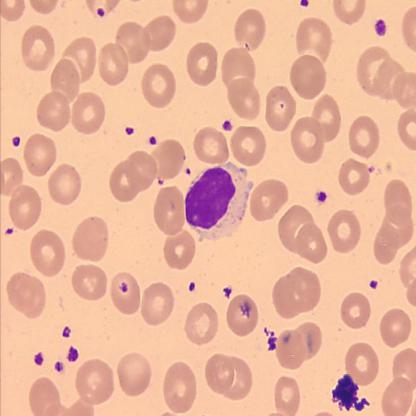Lymphocyte: (184, 160, 254, 244)
